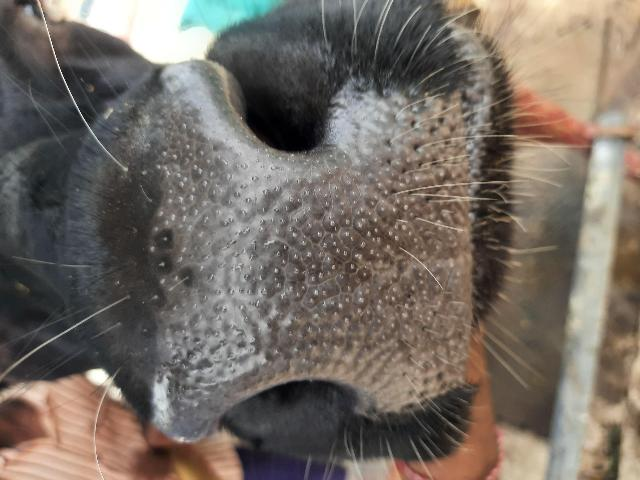Muzzle: (188, 154, 452, 358)
